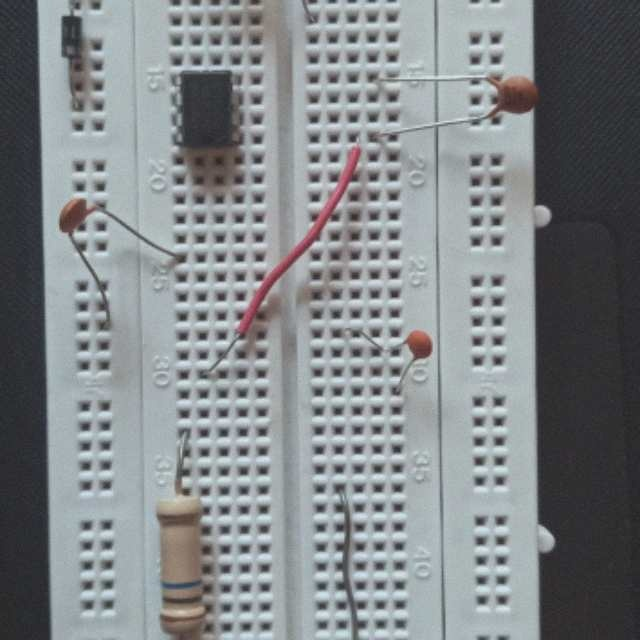capacitor: (495, 76, 538, 116), (58, 196, 90, 236), (404, 330, 434, 359)
resistor: (158, 490, 208, 635)
